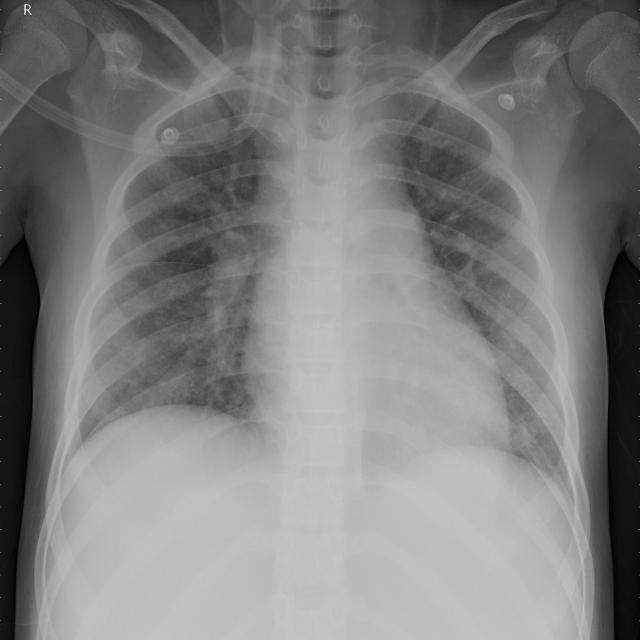low-pneumonia: (465, 224, 567, 472), (203, 200, 269, 393), (205, 43, 292, 135)
